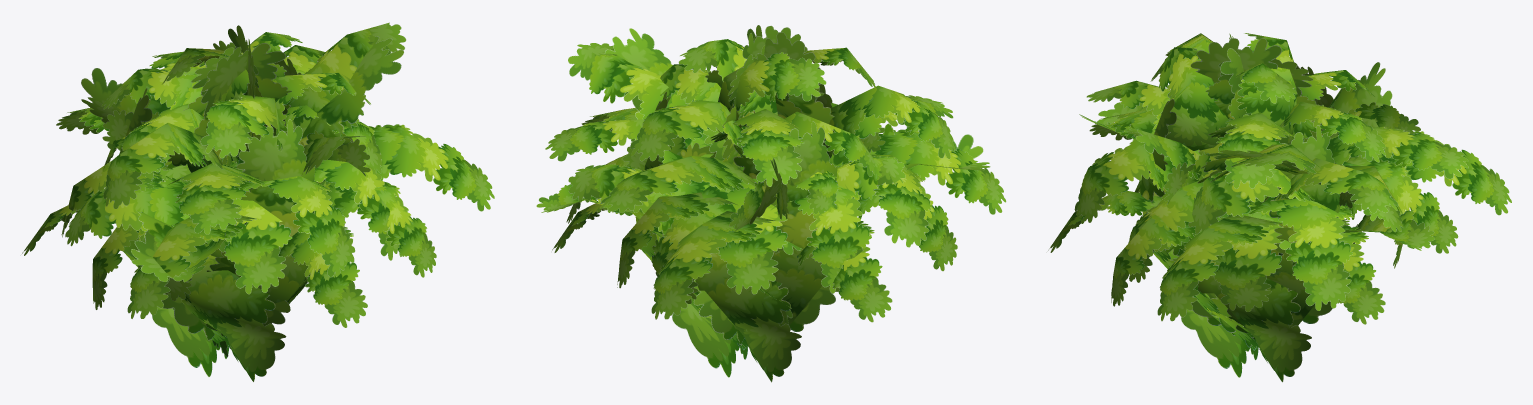
The model's file is Bush_01.FBX.
3 views of the same model, side by side, from view 1: azimuth 30°, elevation 25°; view 2: azimuth 150°, elevation 25°; view 3: azimuth 270°, elevation 25° (orthographic). The views are drawn at different scales.
Parts seen in each view (by area): view 1: Bush_01; view 2: Bush_01; view 3: Bush_01.
Part boxes in pixels (x1,y1,x2,y2): Bush_01: (22,22,494,381); Bush_01: (536,25,1006,382); Bush_01: (1048,33,1511,382).
Bounding box in the file's own units: 131 × 109 × 131.
Materials: 1 (1 with a texture image).
